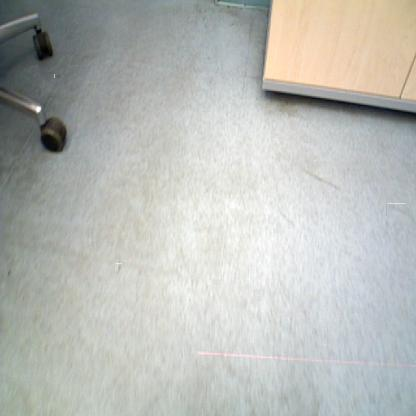mark: (302, 168, 340, 192), (386, 203, 406, 216), (114, 263, 122, 274), (6, 268, 12, 278), (55, 74, 61, 79)
